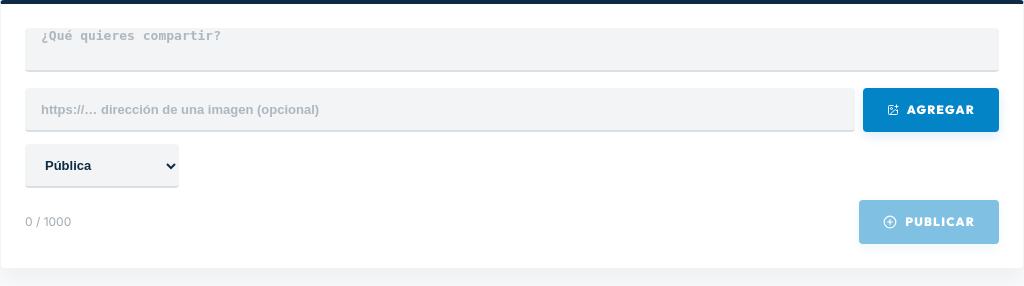
Test: PostComposer › FC212 F2 (T2) › S: mientras viaja la publicación todo queda deshabilitado y un segundo clic no publica
Type "Una sola vez" into the text box with test id "composer-text" at (512, 50), box [25,28,999,72]
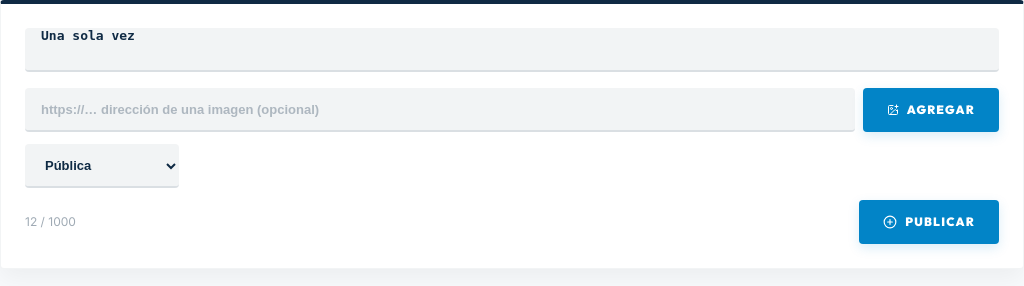
Click the button with test id "composer-submit" at (929, 222), box [859,200,999,244]
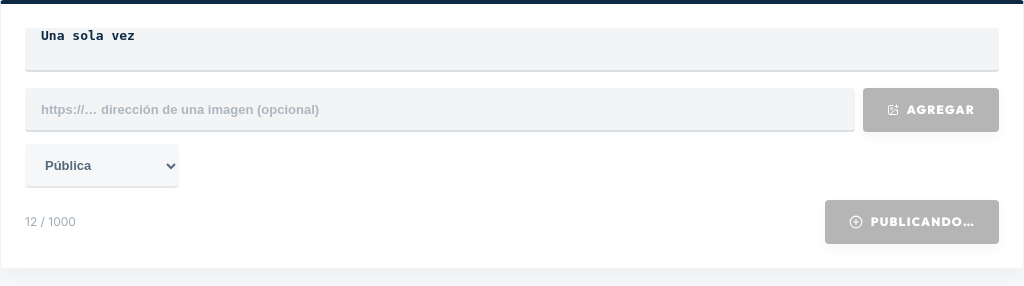
Now the element with test id "composer-fields" is disabled
Now the button with test id "composer-submit" reads "Publicando…", box [825,200,999,244]
Submit the form with test id "post-composer"
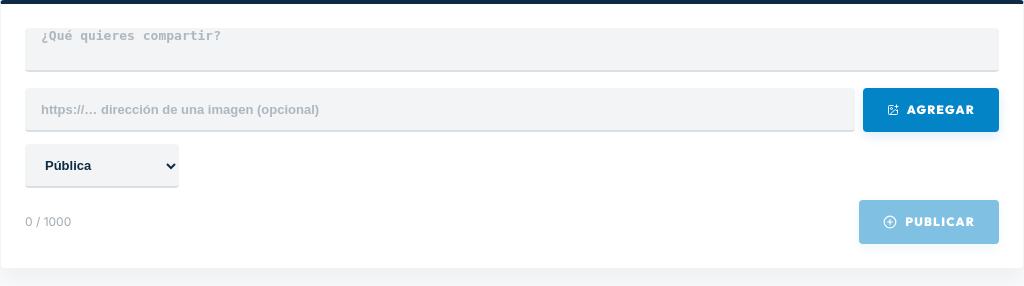
Now the element with test id "composer-fields" is enabled
Now the button with test id "composer-submit" reads "Publicar", box [859,200,999,244]
